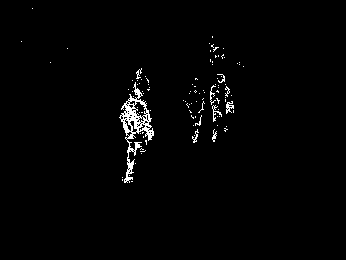person: (122, 90, 157, 184), (209, 73, 236, 145), (182, 77, 207, 144)
